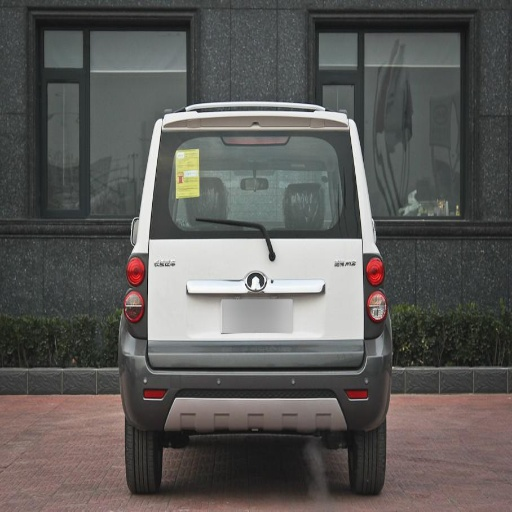back_bumper: (123, 323, 385, 434)
tailgate: (215, 127, 317, 166)
trunk: (146, 240, 361, 366)
